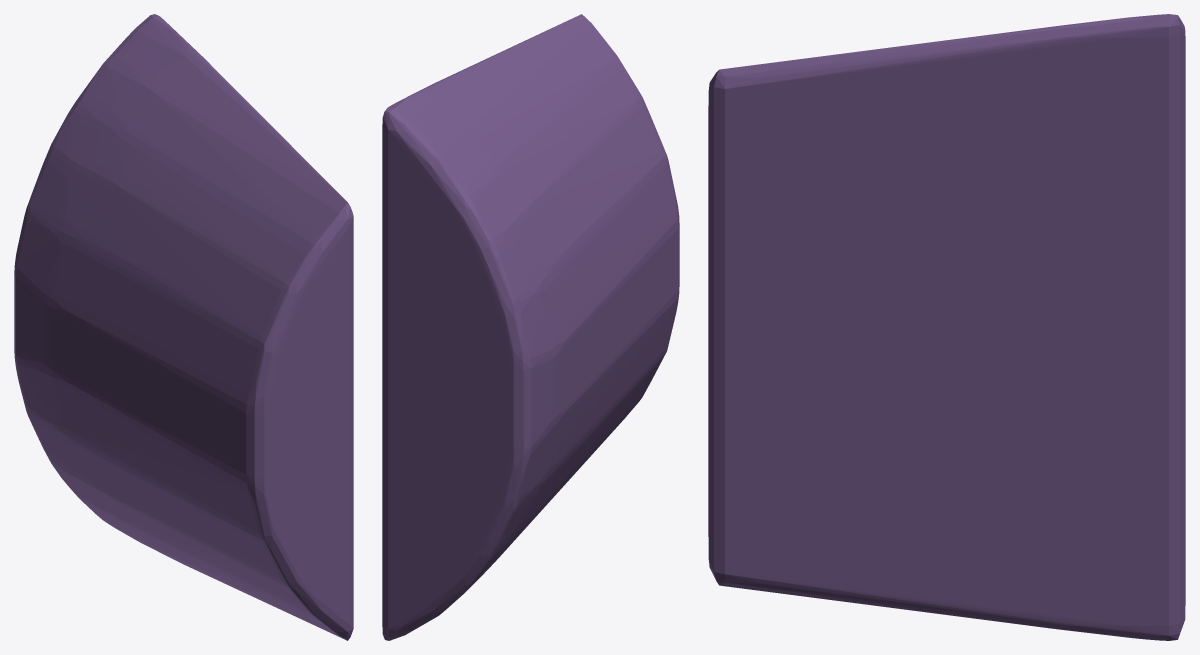
Rendered from left_th_middle_part_1.obj.
The picture shows the model from 3 angles, left to right: view 1: azimuth 30°, elevation 25°; view 2: azimuth 150°, elevation 25°; view 3: azimuth 270°, elevation 25°; orthographic projection. The views are drawn at different scales.
Bounding box in the file's own units: 5.58 × 19.11 × 13.25.
